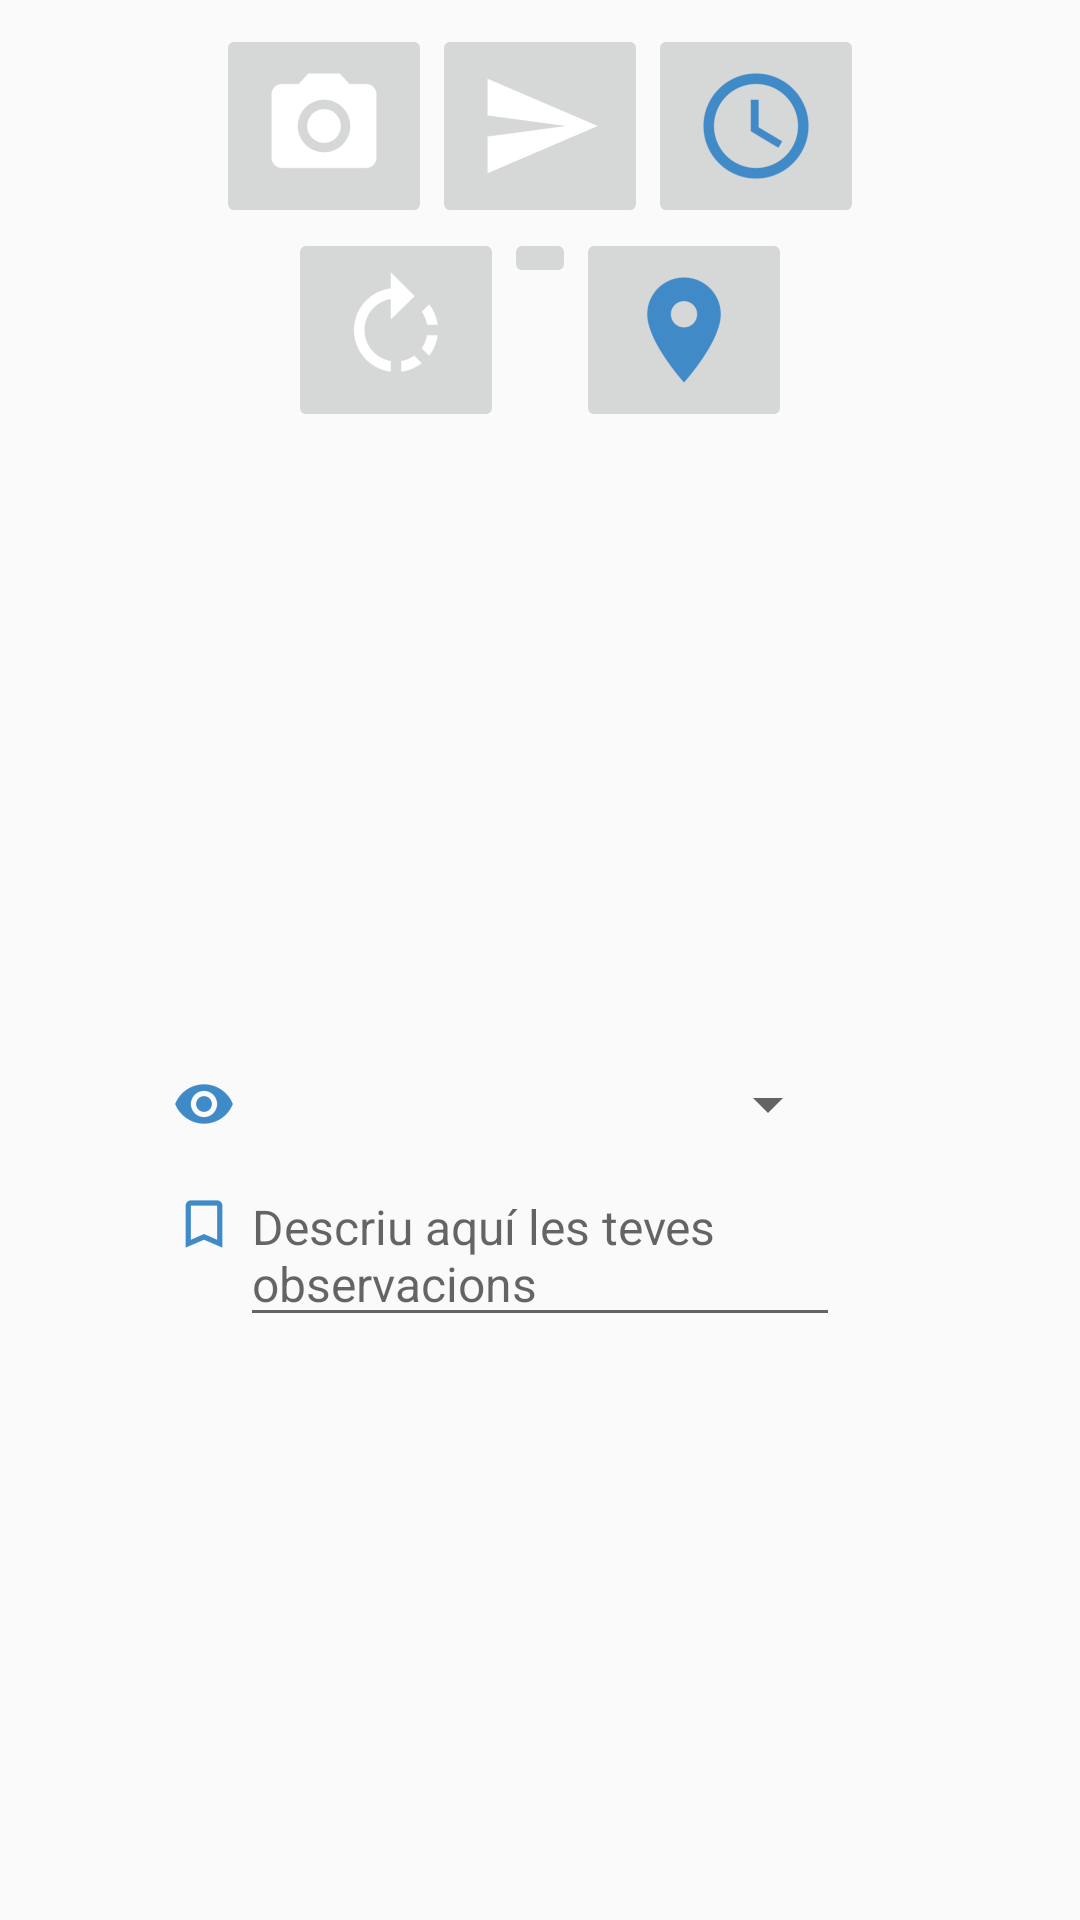

Screen size 1080px x 1920px. Icon name, then its center in pixels as point (x, y):
bookmark edumet: point (204, 1224)
camera: point (324, 126)
eye edumet: point (204, 1104)
location edumet: point (684, 330)
rotate: point (396, 330)
send: point (540, 126)
time edumet: point (756, 126)
